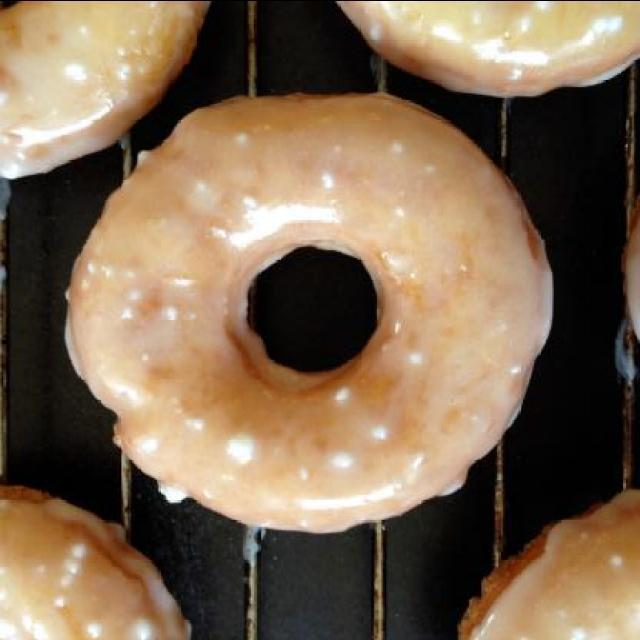Bagel: (62, 85, 554, 533)
